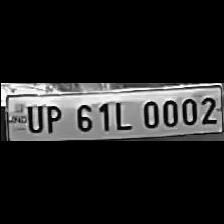0: (138, 97, 160, 128), (160, 96, 178, 128), (178, 94, 196, 125)
1: (94, 100, 111, 132)
2: (198, 94, 218, 124)
6: (69, 100, 95, 132)
L: (110, 97, 134, 131)
P: (41, 102, 64, 134)
U: (23, 102, 43, 134)
